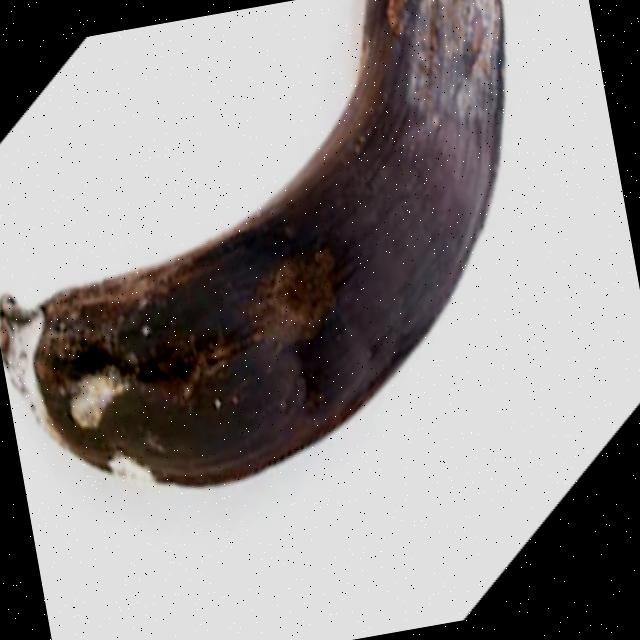Rotten: (0, 0, 617, 550)
